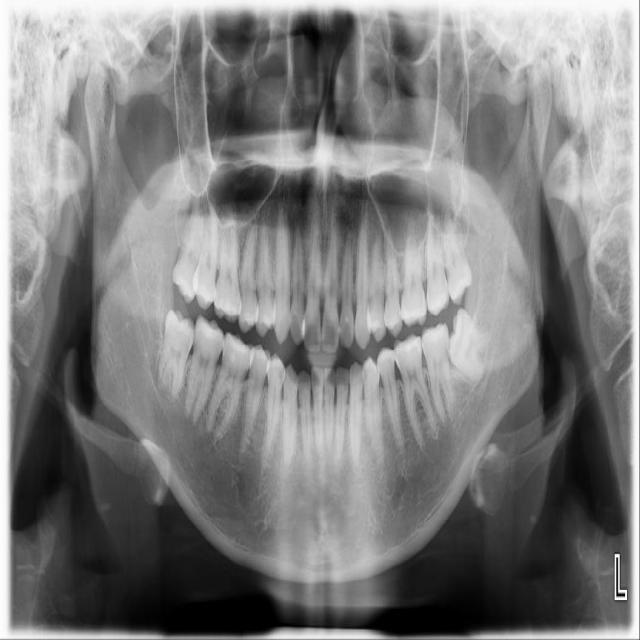3M ESPE Implant: (168, 187, 212, 306)
73: (614, 610, 622, 620)
BioHorizons Implant: (426, 212, 450, 316)
BioLife Implant: (438, 203, 476, 307)
Biomet 3i Implant: (439, 306, 499, 383)
Blue Sky Bio Implant: (419, 322, 458, 425)
Caries: (191, 203, 222, 310)
Implant: (182, 314, 228, 425)
Keystone Dental Implant: (153, 308, 199, 403)
